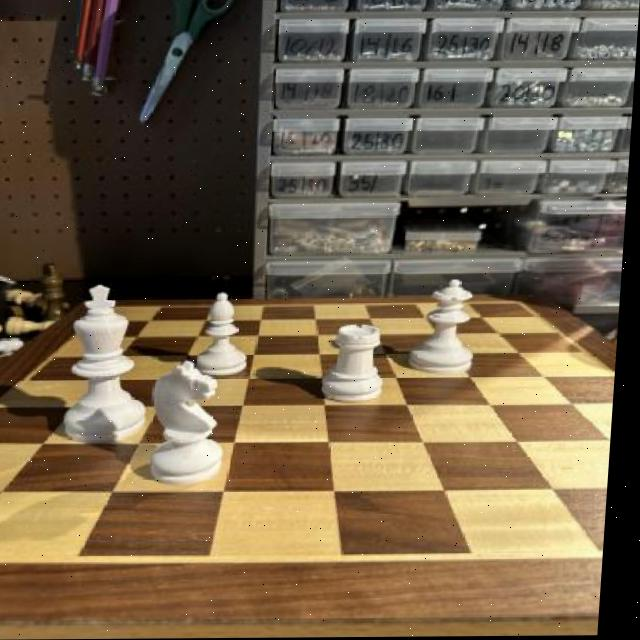black-rook: (196, 291, 256, 378)
white-bishop: (55, 280, 163, 444)
white-king: (145, 359, 241, 487)
white-pawn: (406, 272, 487, 377)
white-queen: (327, 320, 398, 403)
